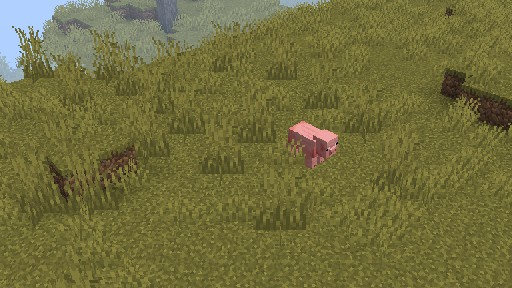pig: (285, 120, 338, 168)
